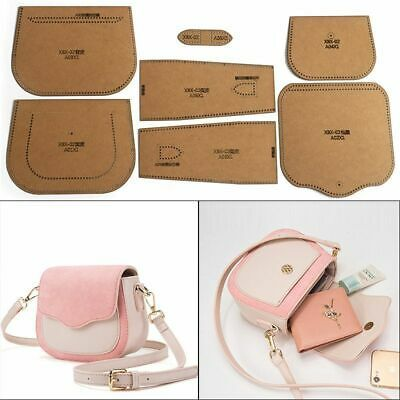cuero: (1, 228, 400, 400)
